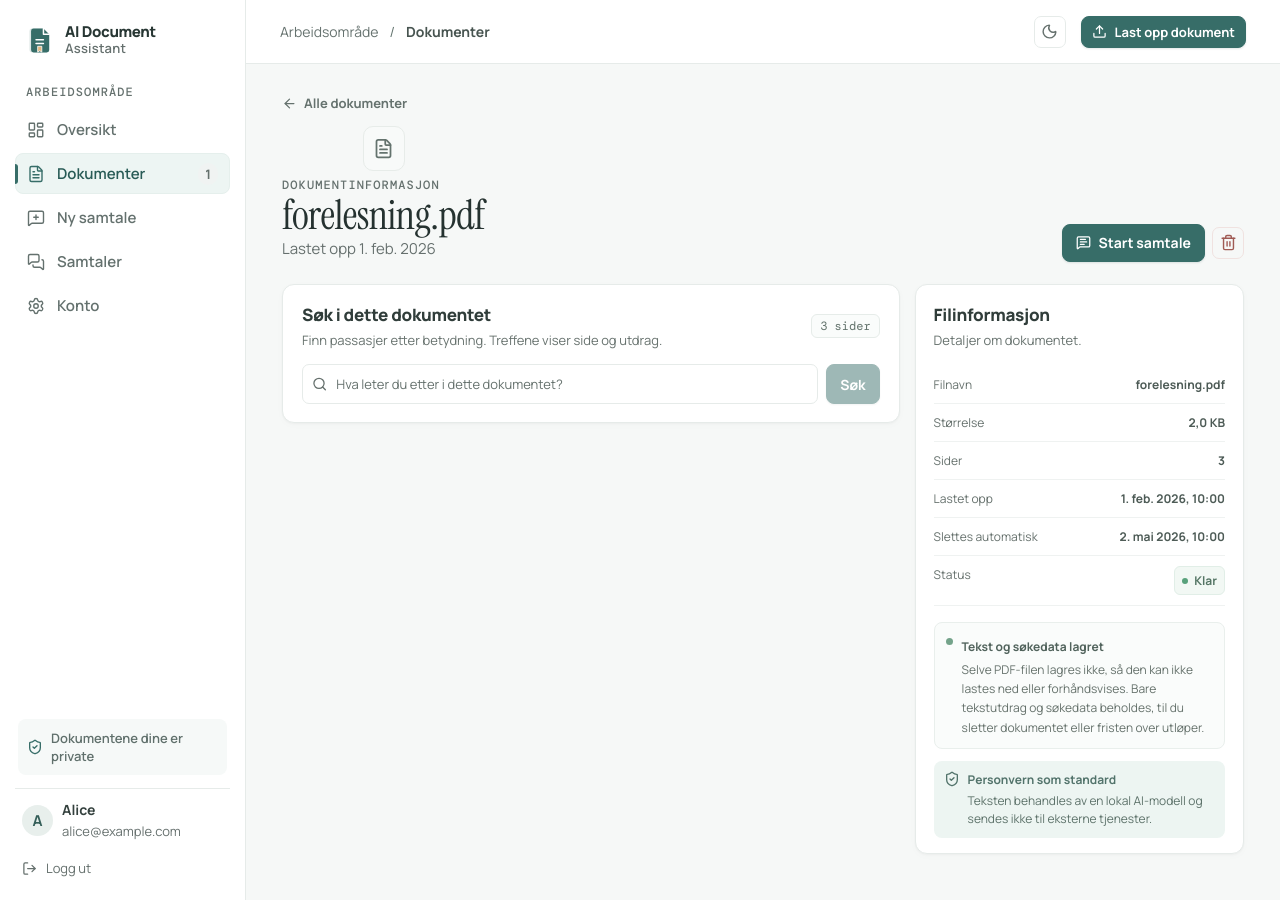
it: document details › deletes the document after confirmation and returns to the list
This screenshot has width=1280, height=900.
Click the button named "Slett dokumentet".
click(1228, 242)  # box [1212,226,1244,258]
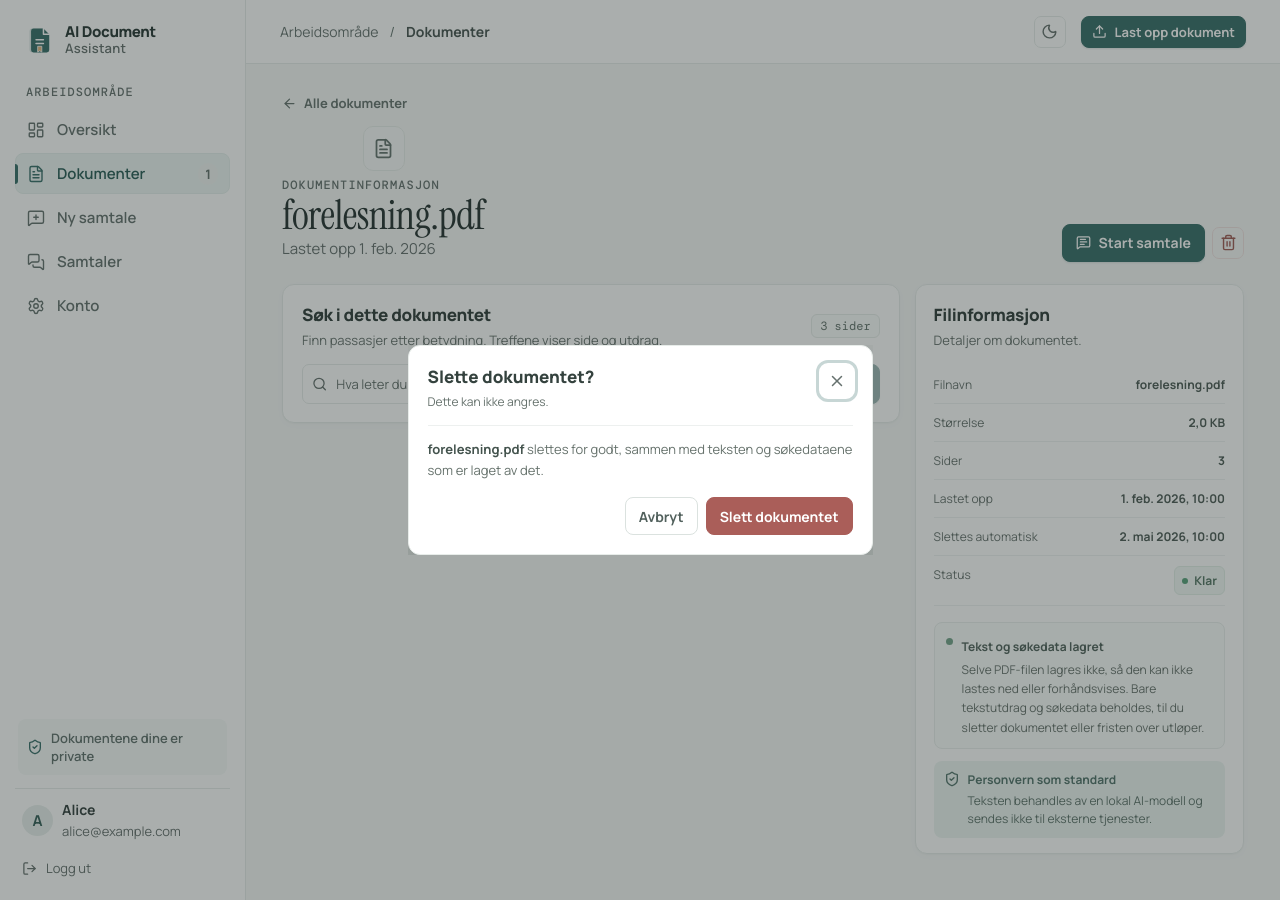
Click the button "Slett dokumentet".
click(779, 516)  # box [706,497,852,535]
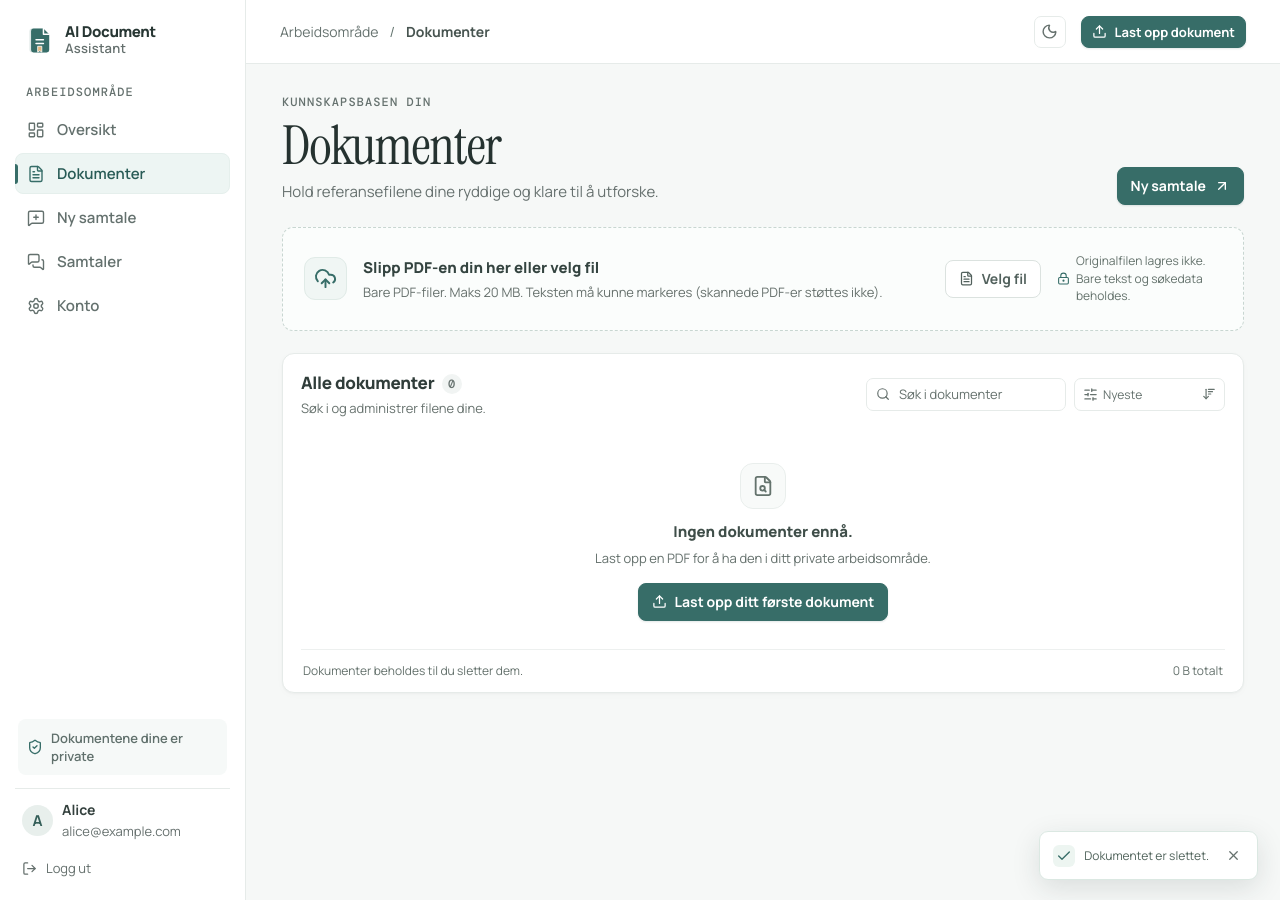
Result: the heading "Dokumenter" is shown at [282,111,501,181]
